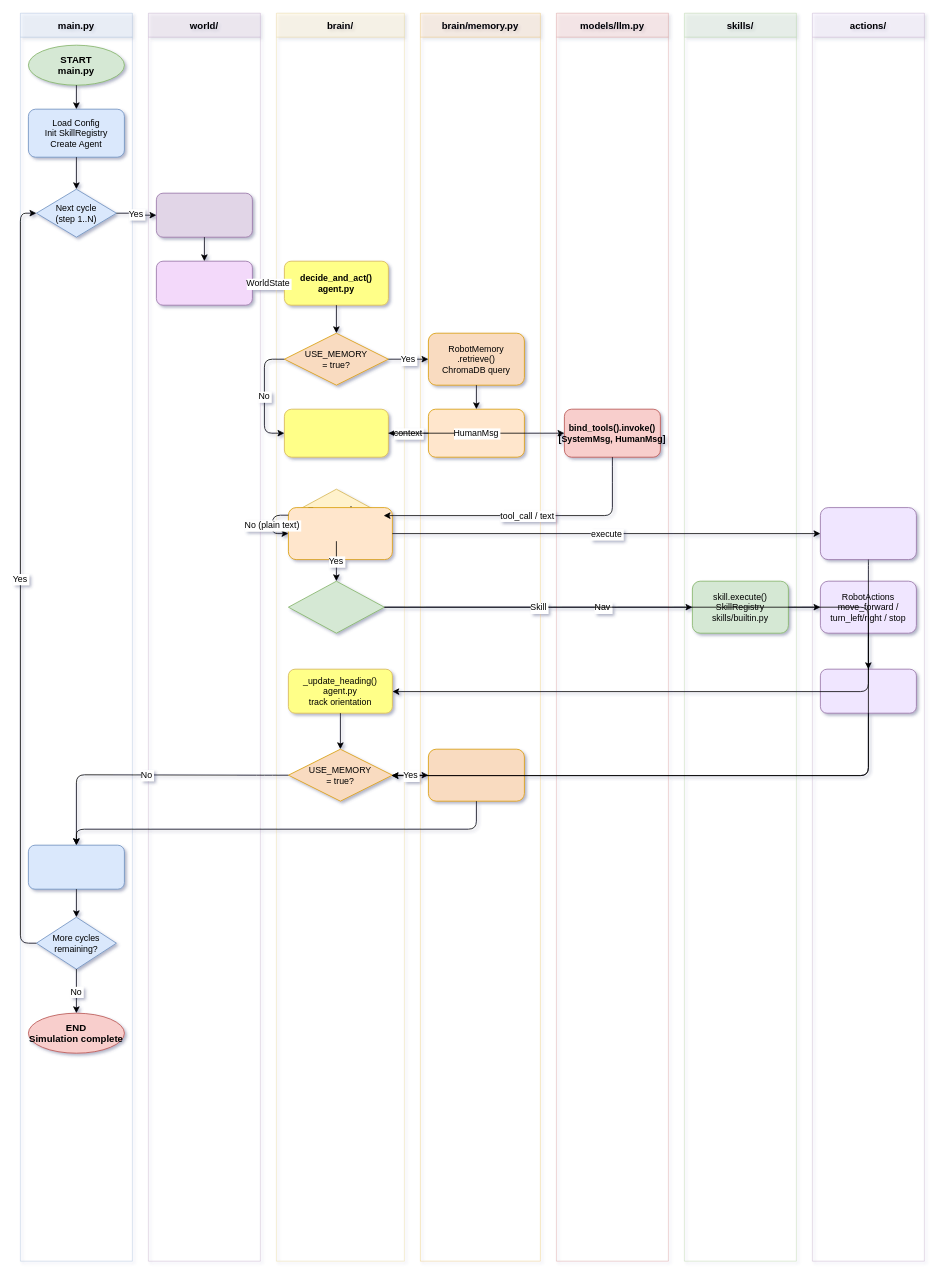
Image size: 938x1274. Some labels were removed from this diagram. Each missing label, with the box of its shape:
_execute_text_fallback() parse keyword in text agent.py: (288, 507, 392, 560)
build_human_prompt() prompts.py sensor + vision + memories: (284, 408, 388, 457)
Nav tool or Skill tool?: (288, 580, 384, 633)
PAST DECISIONS + SEMANTIC MAP context string: (428, 408, 524, 457)
read_world_state() simulator.py: (156, 192, 252, 237)
RobotActions (internal motor cmds): (820, 668, 916, 713)
RobotActions best keyword match: (820, 507, 916, 560)
sleep(DECISION_CYCLE _DELAY_SECONDS): (28, 844, 124, 889)
store_decision() store_observation() ChromaDB write: (428, 748, 524, 801)
WorldState distances + VisionData: (156, 260, 252, 305)
